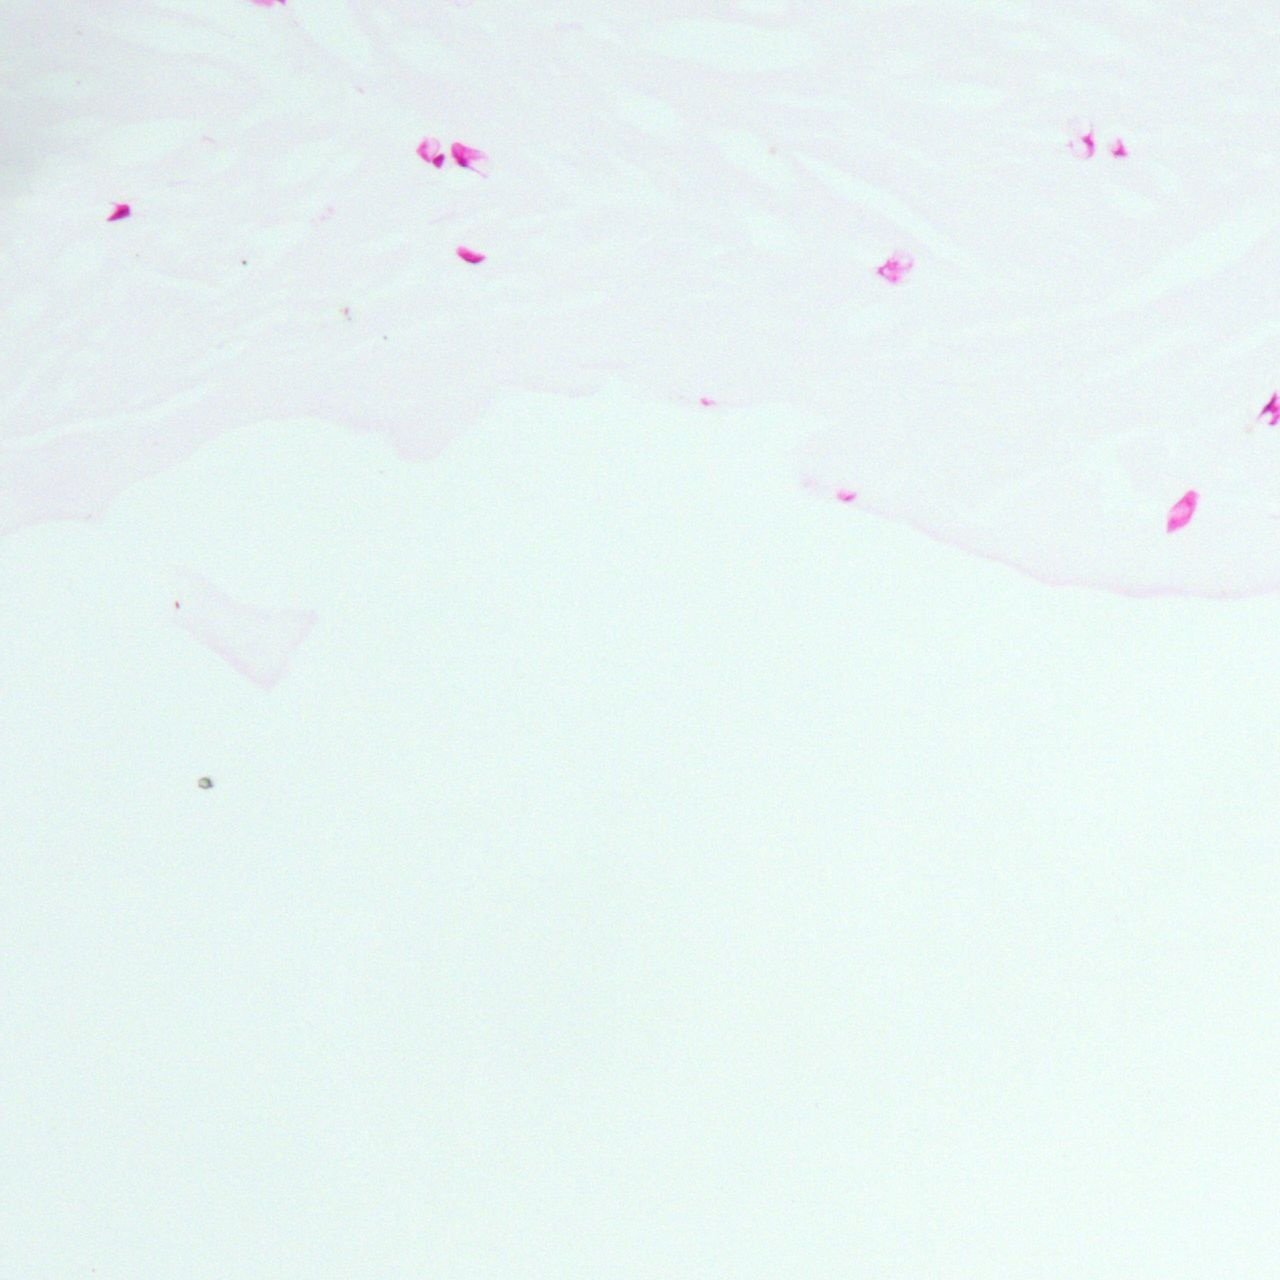dust: (175, 599, 179, 607)
nucleus-FG: (445, 139, 486, 173), (455, 245, 483, 267), (105, 202, 132, 222), (431, 151, 445, 169), (199, 776, 212, 789)
